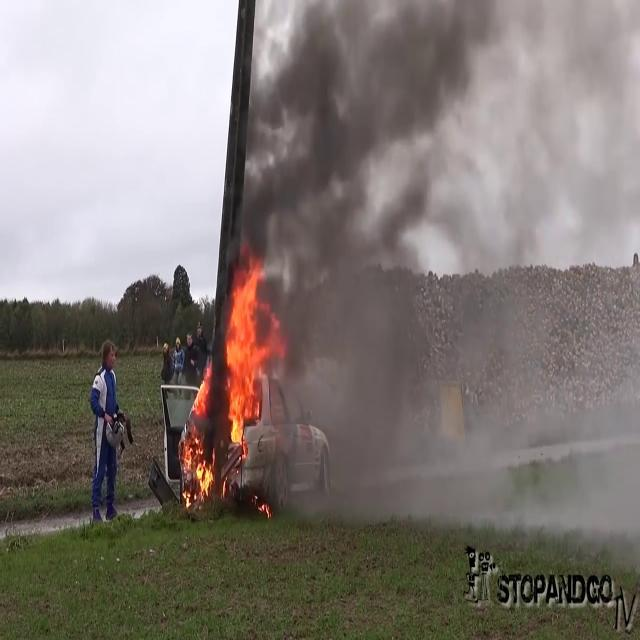Fire: (186, 254, 276, 508), (180, 394, 221, 512)
Smoke: (271, 0, 472, 511), (423, 0, 630, 258)
